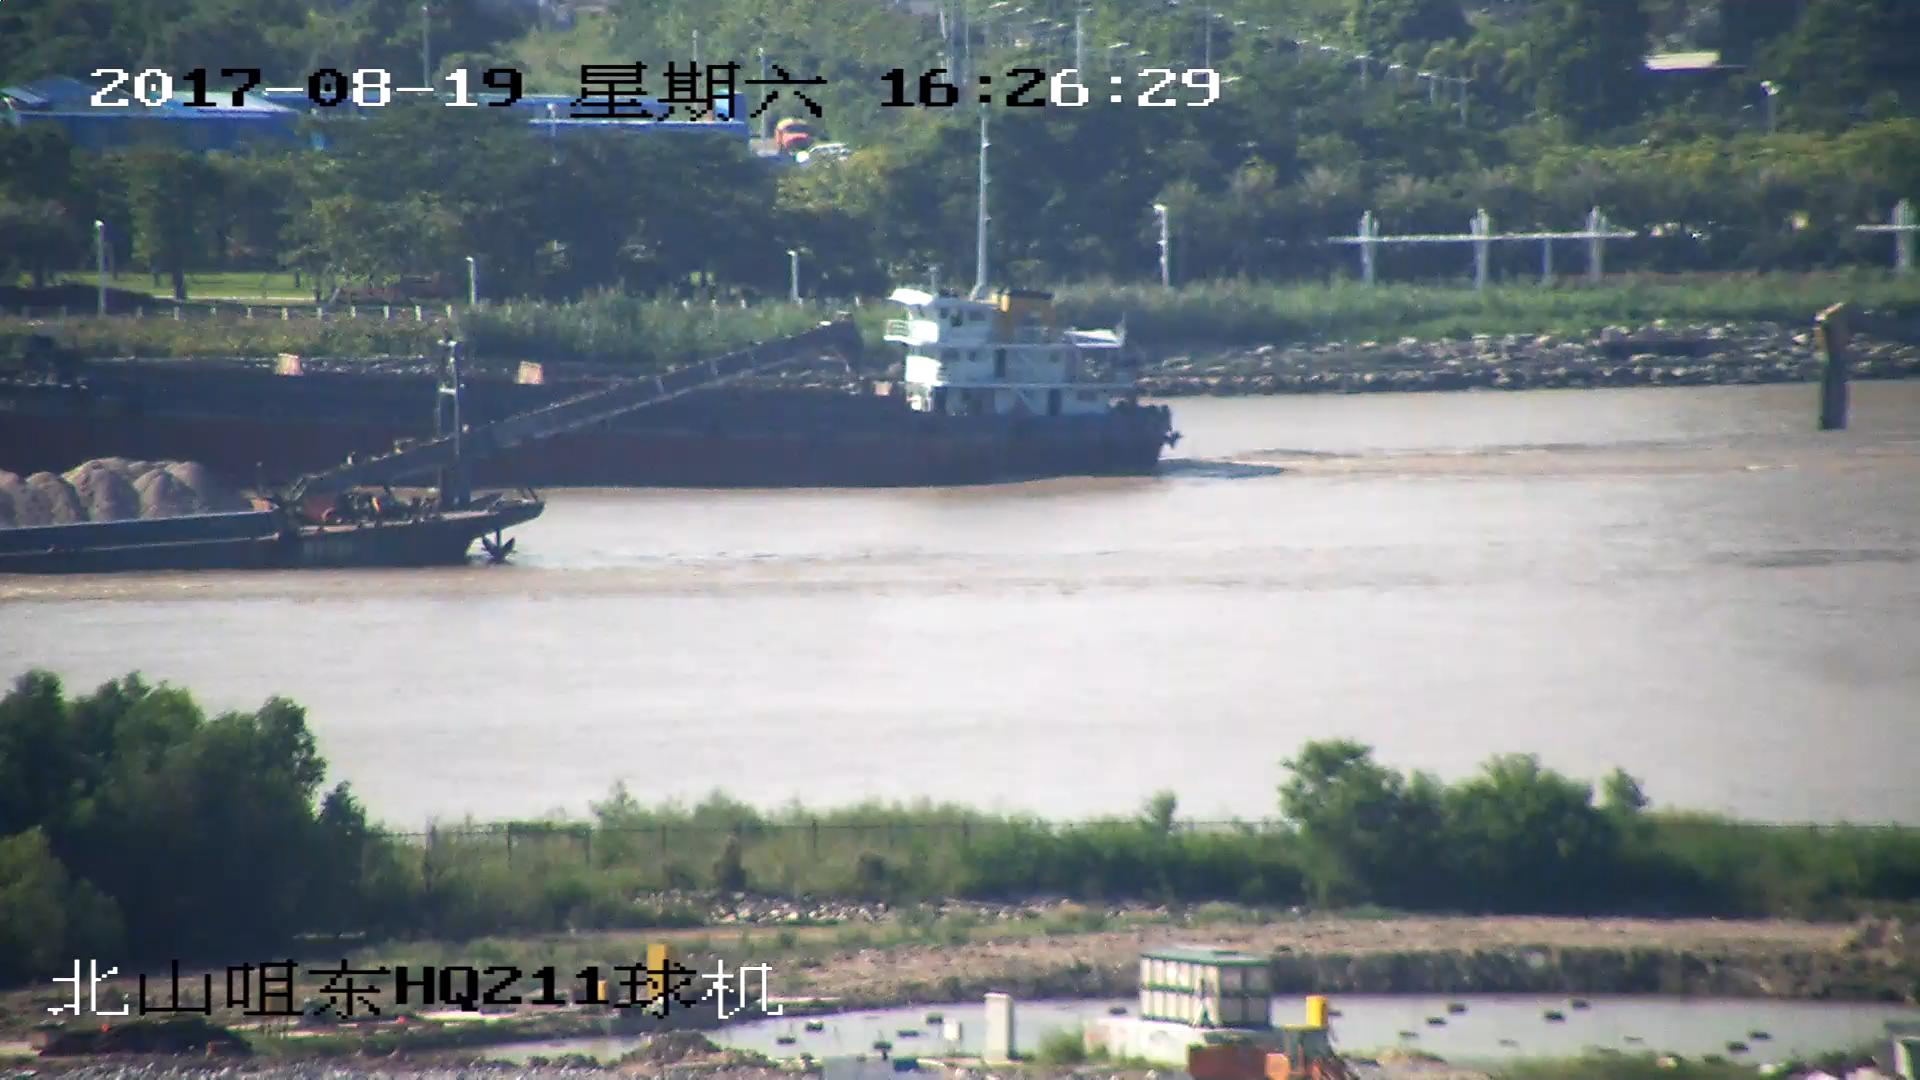bulk cargo carrier: (1, 259, 1179, 479)
ore carrier: (1, 316, 842, 573)
